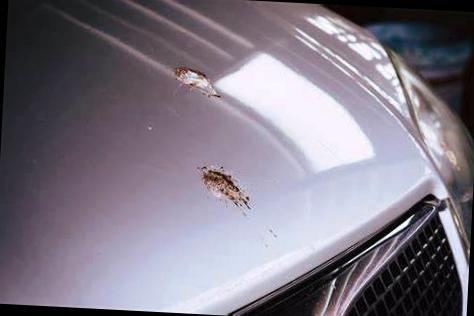Bird Poop: (202, 167, 250, 212), (175, 68, 220, 96)
